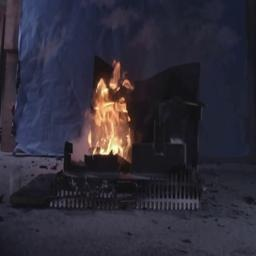fire: (83, 53, 139, 166)
